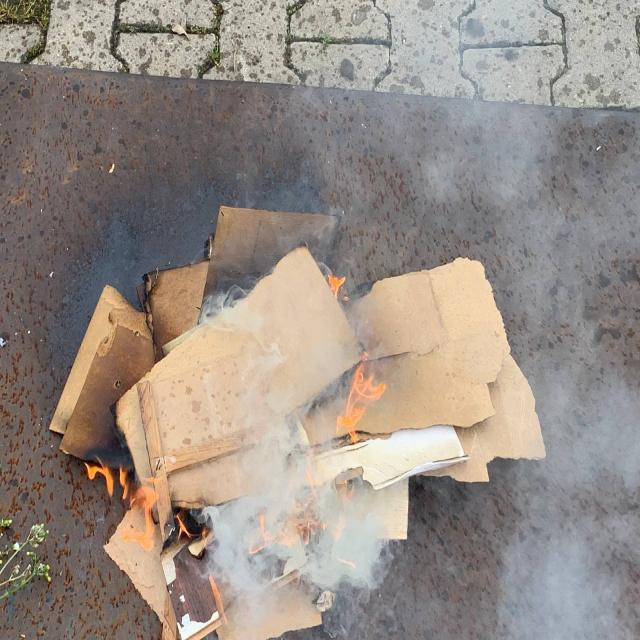fire: (174, 519, 237, 636), (78, 463, 155, 553), (324, 358, 378, 442), (323, 269, 342, 306)
